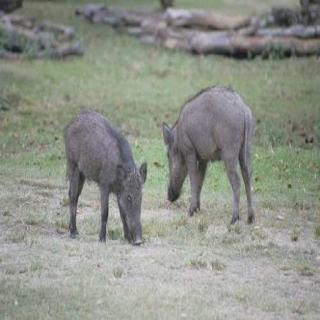Pig: (37, 103, 152, 252), (162, 80, 264, 234)
